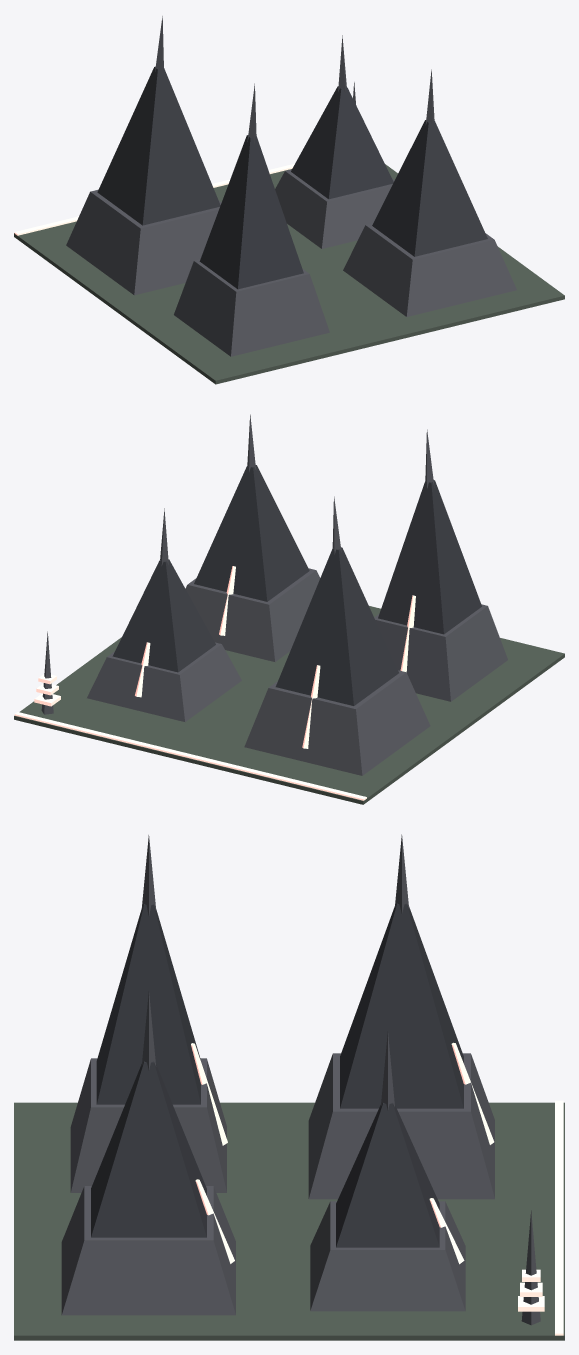
File: zone_low_4_t3.glb
3 views of the same model, one above another, from view 1: azimuth 30°, elevation 25°; view 2: azimuth 150°, elevation 25°; view 3: azimuth 270°, elevation 25° (orthographic). The views are drawn at different scales.
Parts seen in each view (by area): view 1: zone_low_4_t3, detail; view 2: zone_low_4_t3, detail; view 3: zone_low_4_t3, detail.
Boxes of the visible parts, x1=… form: zone_low_4_t3: x1=14, y1=16, x2=564, y2=384; detail: x1=14, y1=82, x2=355, y2=235; zone_low_4_t3: x1=14, y1=414, x2=564, y2=804; detail: x1=14, y1=631, x2=366, y2=800; zone_low_4_t3: x1=14, y1=834, x2=564, y2=1340; detail: x1=518, y1=1100, x2=563, y2=1335.
Bounding box in the file's own units: 19.6 × 13.11 × 19.6.
